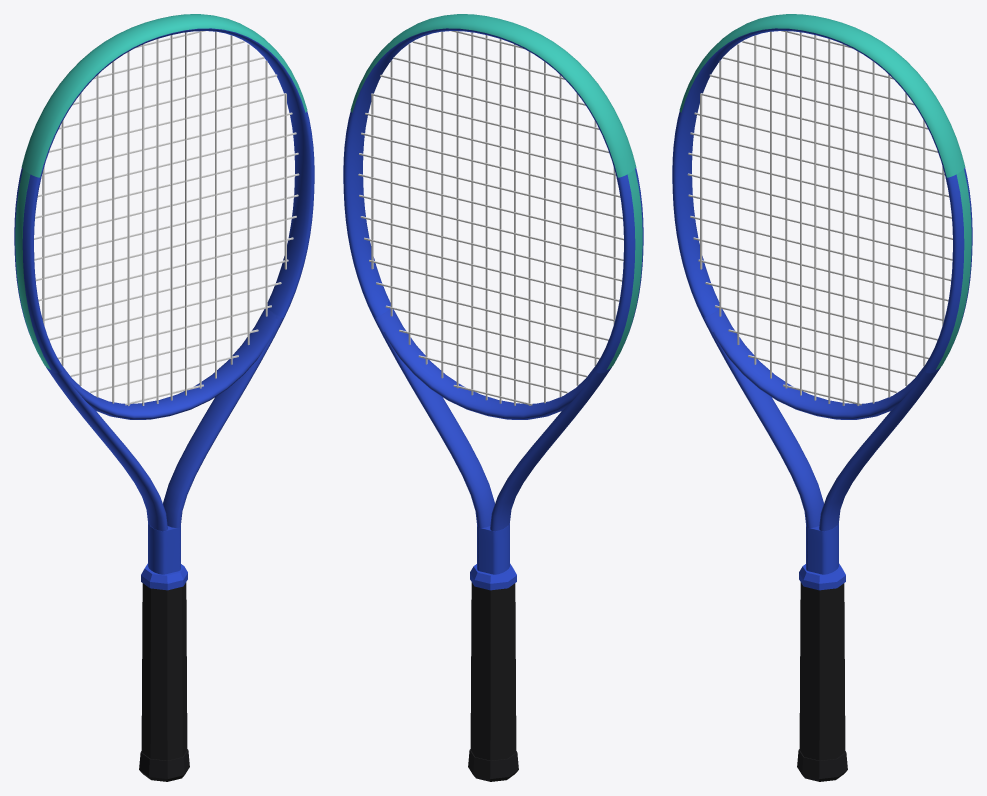
File: wilson-ultra-111-v5-2025.glb
The picture shows the model from 3 angles, left to right: view 1: azimuth 30°, elevation 25°; view 2: azimuth 150°, elevation 25°; view 3: azimuth 330°, elevation 25°; orthographic projection.
Visible parts, largest first — view 1: frame, strings_mains, strings_crosses, grip, bumper, grommets, butt_cap, collar; view 2: frame, strings_mains, strings_crosses, grip, bumper, grommets, butt_cap, collar; view 3: frame, strings_mains, strings_crosses, grip, bumper, grommets, butt_cap, collar.
Part boxes in pixels (bbox=[...]): frame: bbox=[14, 28, 314, 574]; strings_mains: bbox=[42, 31, 286, 405]; strings_crosses: bbox=[34, 31, 299, 405]; grip: bbox=[141, 582, 187, 760]; bumper: bbox=[21, 14, 307, 177]; grommets: bbox=[15, 169, 50, 369]; butt_cap: bbox=[139, 749, 189, 781]; collar: bbox=[141, 563, 187, 590]; frame: bbox=[343, 28, 643, 574]; strings_mains: bbox=[371, 31, 615, 405]; strings_crosses: bbox=[358, 31, 623, 405]; grip: bbox=[470, 582, 516, 760]; bumper: bbox=[350, 14, 636, 177]; grommets: bbox=[607, 169, 642, 369]; butt_cap: bbox=[468, 749, 518, 781]; collar: bbox=[470, 563, 516, 590]; frame: bbox=[672, 28, 972, 574]; strings_mains: bbox=[700, 31, 944, 405]; strings_crosses: bbox=[687, 31, 952, 405]; grip: bbox=[799, 582, 845, 760]; bumper: bbox=[679, 14, 965, 177]; grommets: bbox=[936, 169, 971, 369]; butt_cap: bbox=[797, 749, 847, 781]; collar: bbox=[799, 563, 845, 590].
Size of the model in its own units: 0.2819 by 0.6924 by 0.0396.
